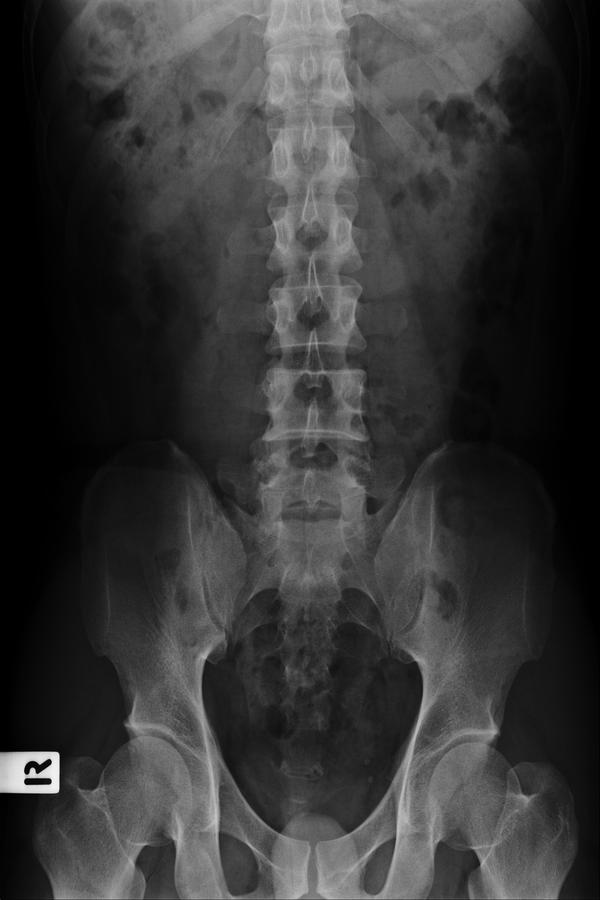not lumbar scoliosis: (250, 176, 371, 548)
